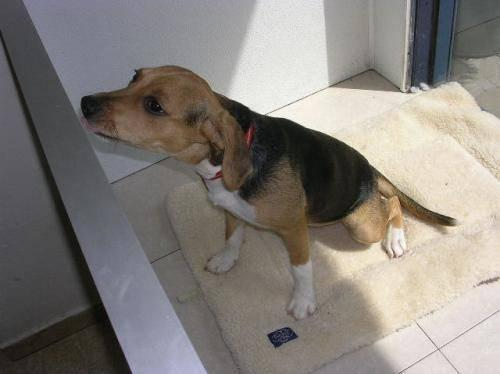dog: (82, 65, 454, 318)
